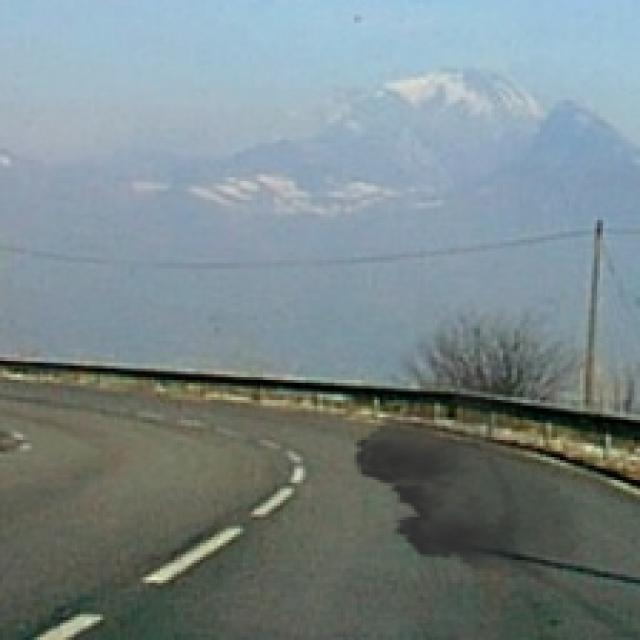Smoke: (343, 366, 600, 578)
